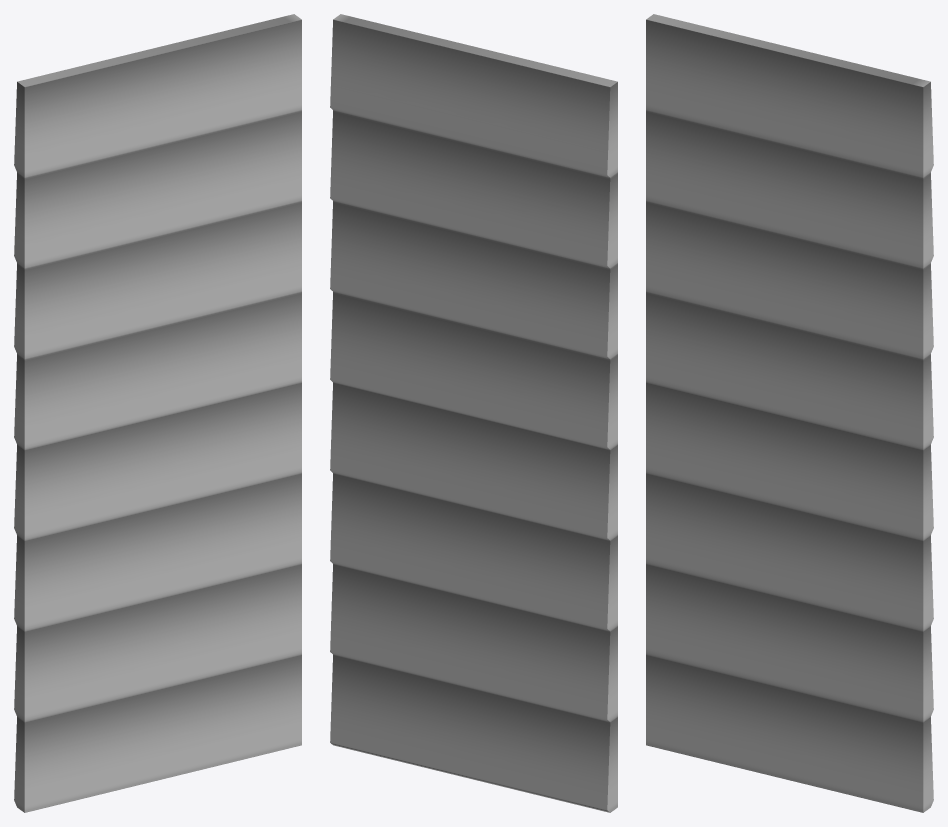
Rendered from Wall Exterior9.fbx.
3 renders of one model, left to right at view 1: azimuth 30°, elevation 25°; view 2: azimuth 150°, elevation 25°; view 3: azimuth 330°, elevation 25°, orthographic.
Parts seen in each view (by area): view 1: Wall_Exterior9; view 2: Wall_Exterior9; view 3: Wall_Exterior9.
Part boxes in pixels (x1,y1,x2,y2): Wall_Exterior9: [14, 14, 301, 812]; Wall_Exterior9: [330, 14, 617, 812]; Wall_Exterior9: [646, 14, 933, 812].
Bounding box in the file's own units: 1 × 2.5 × 0.066.
